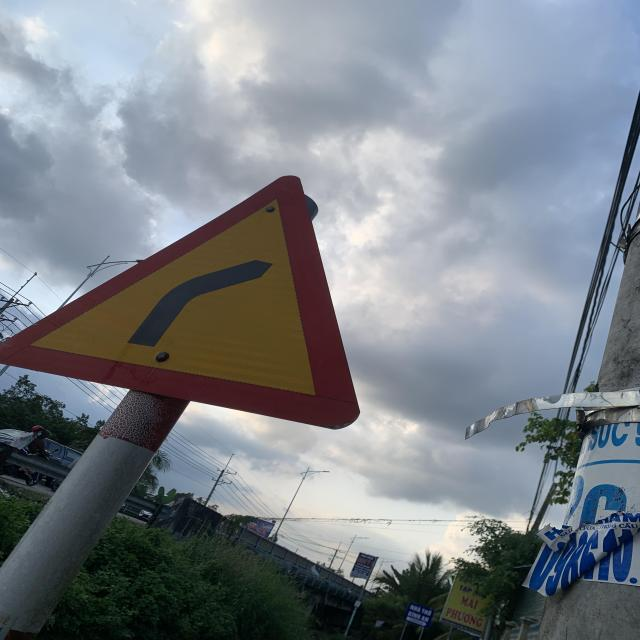Duong_Nguoi_Di_Bo_Cat_Ngang: (0, 173, 354, 428)
